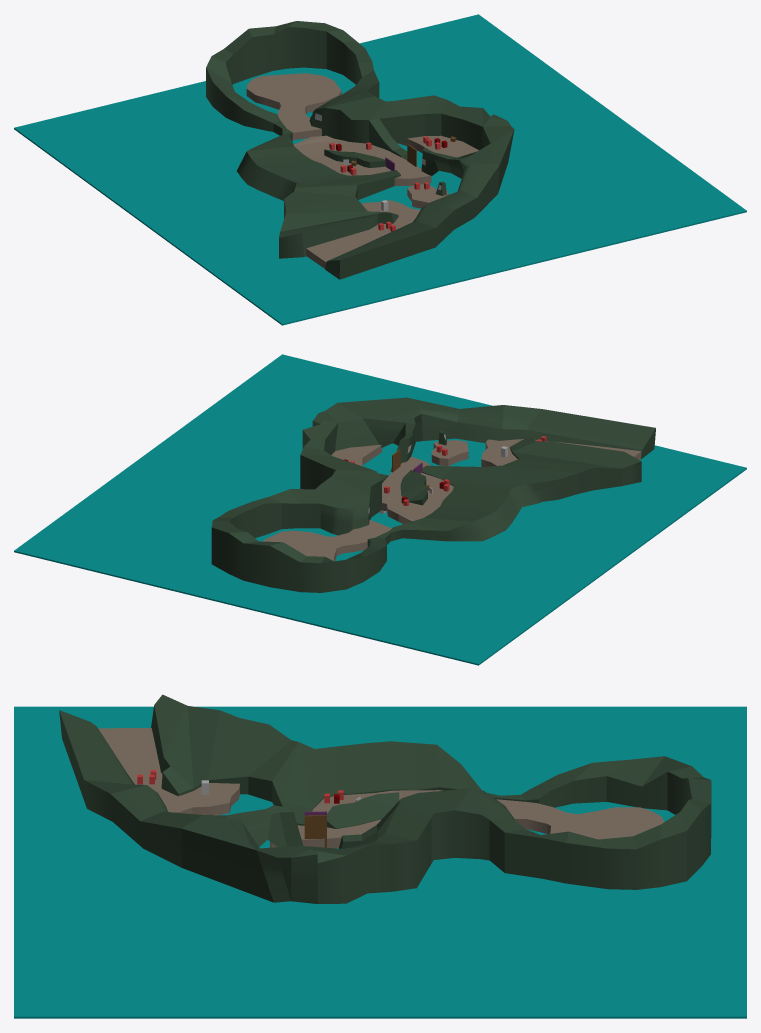
File: Waterpath.fbx
The picture shows the model from 3 angles, top to bottom: view 1: azimuth 30°, elevation 25°; view 2: azimuth 150°, elevation 25°; view 3: azimuth 270°, elevation 25°; orthographic projection. The views are drawn at different scales.
Visible parts, largest first — view 1: pasted__pPlane1, paredes, suelo, pared_medio; view 2: pasted__pPlane1, paredes, suelo, pared_medio; view 3: pasted__pPlane1, paredes, suelo, pared_medio, pCube7.
Boxes of the visible parts, bbox=[...] form: pasted__pPlane1: bbox=[14, 14, 746, 325]; paredes: bbox=[206, 21, 514, 279]; suelo: bbox=[246, 73, 478, 268]; pared_medio: bbox=[324, 149, 391, 167]; pasted__pPlane1: bbox=[14, 354, 746, 665]; paredes: bbox=[211, 397, 655, 592]; suelo: bbox=[263, 439, 641, 561]; pared_medio: bbox=[400, 470, 427, 505]; pasted__pPlane1: bbox=[14, 706, 746, 1018]; paredes: bbox=[59, 694, 711, 903]; suelo: bbox=[98, 728, 663, 848]; pared_medio: bbox=[327, 792, 399, 828]; pCube7: bbox=[304, 815, 326, 847].
Bounding box in the file's own units: 32.72 × 4.3 × 32.72.
